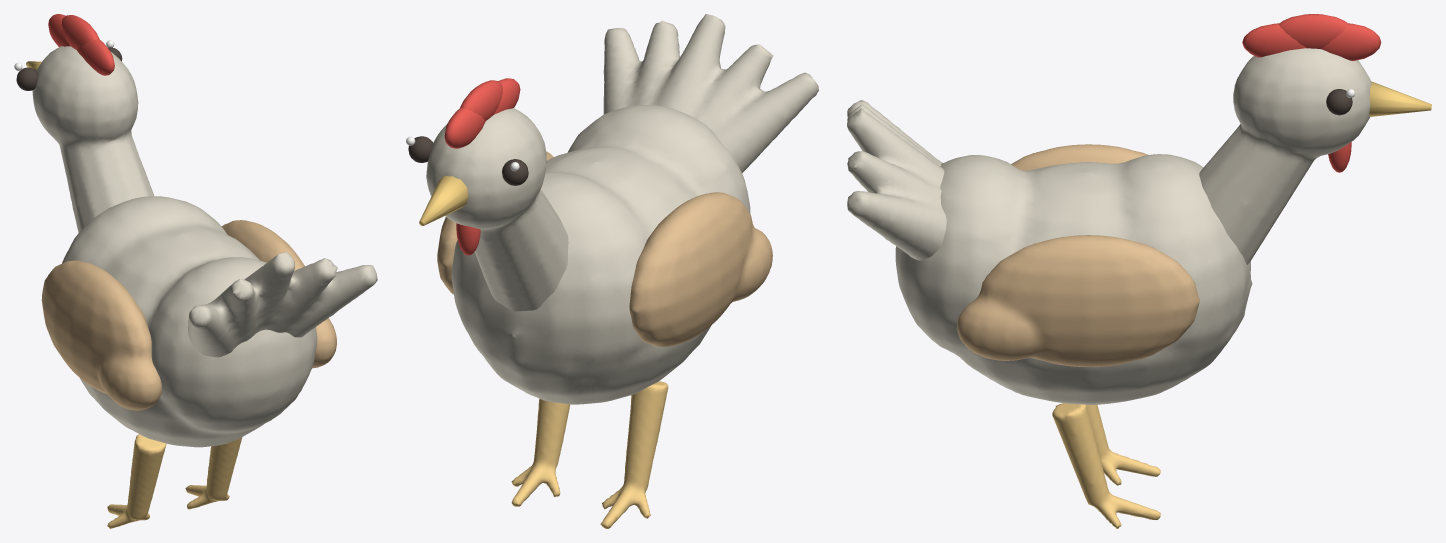
Rendered from Hen.fbx.
3 renders of one model, left to right at view 1: azimuth 30°, elevation 25°; view 2: azimuth 150°, elevation 25°; view 3: azimuth 270°, elevation 25°, orthographic. The views are drawn at different scales.
Visible parts, largest first — view 1: Hen_Body, Hen_Head, Hen_Wing_L, Hen_Tail, Hen_Leg_L, Hen_Wing_R, Hen_Leg_R, Hen_Comb_0, Hen_Comb_1, Hen_Comb_2, Hen_Eye_L; view 2: Hen_Body, Hen_Tail, Hen_Head, Hen_Wing_L, Hen_Leg_L, Hen_Leg_R, Hen_Beak, Hen_Comb_2, Hen_Wing_R, Hen_Comb_1, Hen_Wattle, Hen_Comb_0 (+2 smaller); view 3: Hen_Body, Hen_Wing_R, Hen_Head, Hen_Tail, Hen_Leg_R, Hen_Wing_L, Hen_Comb_1, Hen_Leg_L, Hen_Comb_2, Hen_Beak, Hen_Comb_0.
Boxes of the visible parts, <box> form: Hen_Body: <box>62,196,317,447</box>; Hen_Head: <box>32,46,154,232</box>; Hen_Wing_L: <box>41,260,161,410</box>; Hen_Tail: <box>188,252,377,357</box>; Hen_Leg_L: <box>107,434,166,528</box>; Hen_Wing_R: <box>221,220,336,368</box>; Hen_Leg_R: <box>185,437,241,509</box>; Hen_Comb_0: <box>76,39,114,75</box>; Hen_Comb_1: <box>61,15,99,49</box>; Hen_Comb_2: <box>48,14,70,46</box>; Hen_Eye_L: <box>16,67,38,90</box>; Hen_Body: <box>451,105,750,404</box>; Hen_Tail: <box>603,14,818,173</box>; Hen_Head: <box>426,108,568,311</box>; Hen_Wing_L: <box>629,192,772,347</box>; Hen_Leg_L: <box>600,381,668,528</box>; Hen_Leg_R: <box>511,398,570,506</box>; Hen_Beak: <box>419,175,468,225</box>; Hen_Comb_2: <box>444,107,485,148</box>; Hen_Wing_R: <box>437,151,553,294</box>; Hen_Comb_1: <box>460,80,502,120</box>; Hen_Wattle: <box>456,223,480,255</box>; Hen_Comb_0: <box>493,78,520,114</box>; Hen_Body: <box>895,154,1252,404</box>; Hen_Wing_R: <box>957,235,1199,366</box>; Hen_Head: <box>1199,48,1371,264</box>; Hen_Tail: <box>847,100,946,260</box>; Hen_Leg_R: <box>1052,403,1160,528</box>; Hen_Wing_L: <box>1011,144,1147,170</box>; Hen_Comb_1: <box>1279,14,1348,48</box>; Hen_Leg_L: <box>1086,404,1160,485</box>; Hen_Comb_2: <box>1321,23,1381,60</box>; Hen_Beak: <box>1369,81,1431,116</box>; Hen_Comb_0: <box>1242,23,1306,57</box>.
Size of the model in its own units: 0.2793 by 0.5213 by 0.5716.
